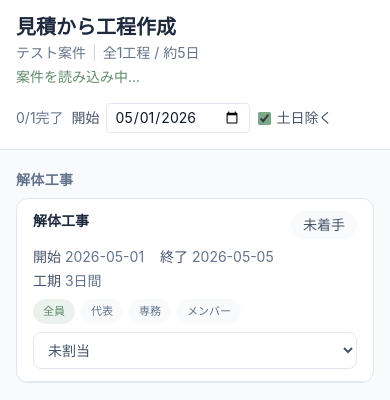
Test: ScheduleFromEstimatePage — ステータス切替 › ステータスボタンをクリックすると「進行中」になる
Click the button with test id "status-btn-" at coordinates (324, 225), box x1=291 y1=211 x2=357 y2=239
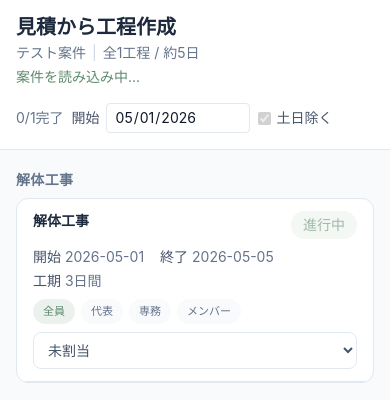
Expected: the button with test id "status-btn-" reads "進行中", x1=291 y1=211 x2=357 y2=239
